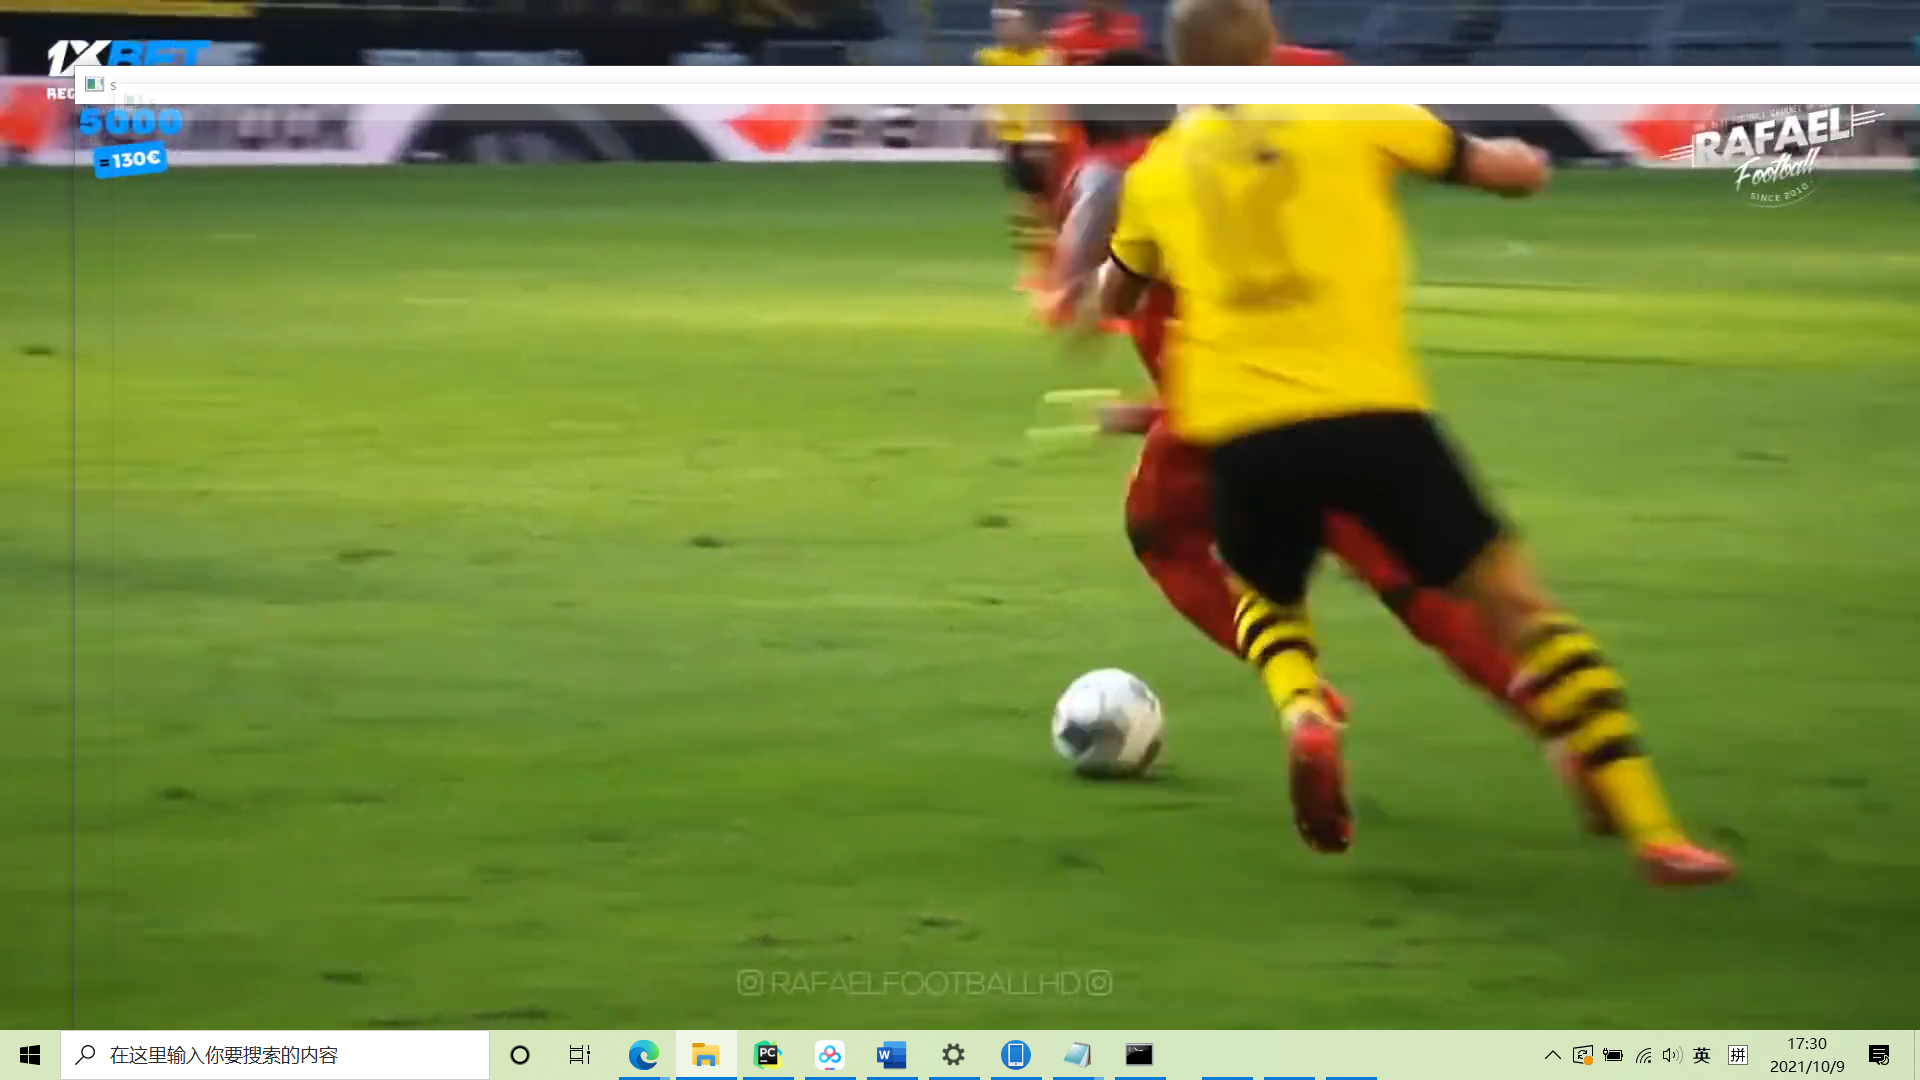ft: (1044, 659, 1167, 787)
